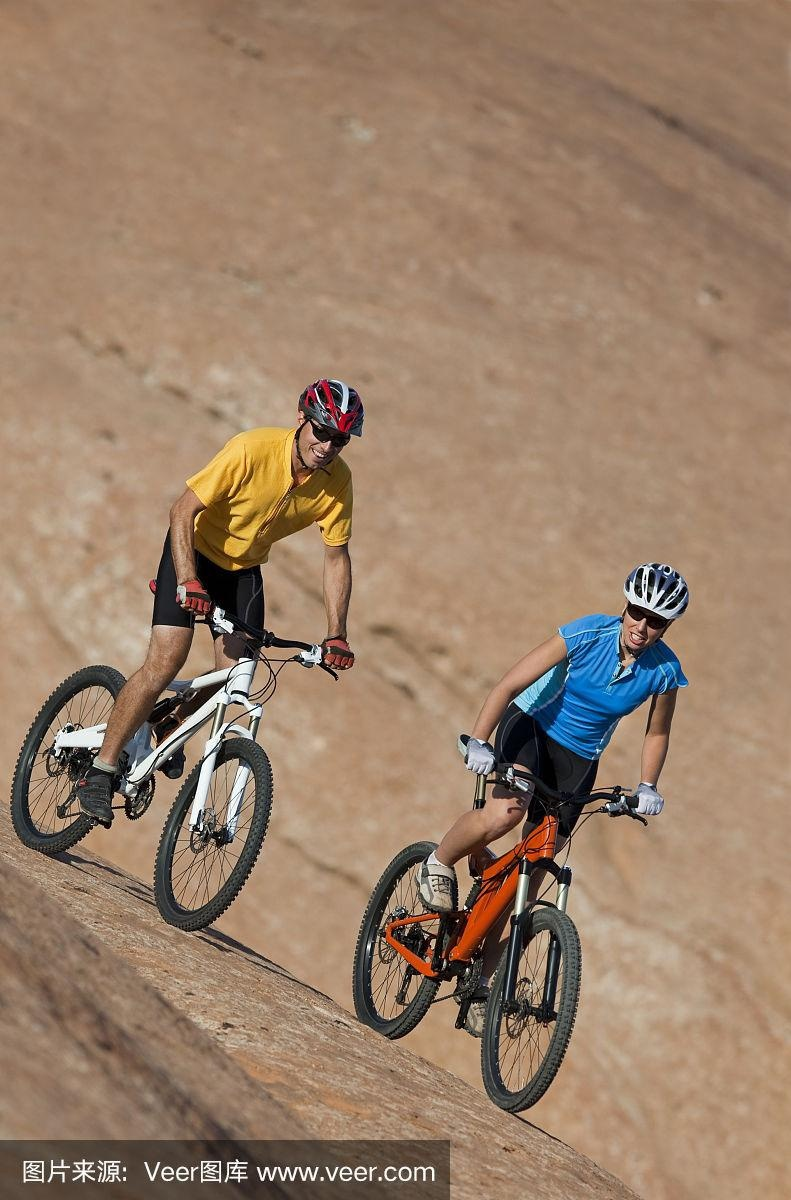non-vehicle: (8, 592, 332, 929), (349, 762, 647, 1113)
